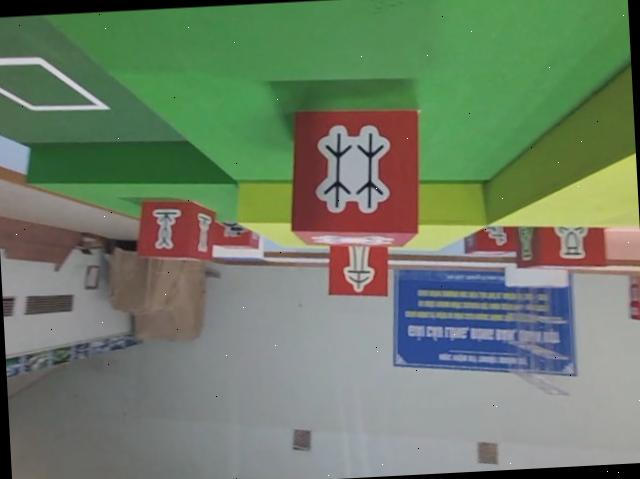R1: (209, 214, 262, 253)
R2 Fake: (325, 242, 389, 299)
R2 Real: (285, 102, 425, 254), (514, 209, 609, 272), (134, 195, 217, 267)
